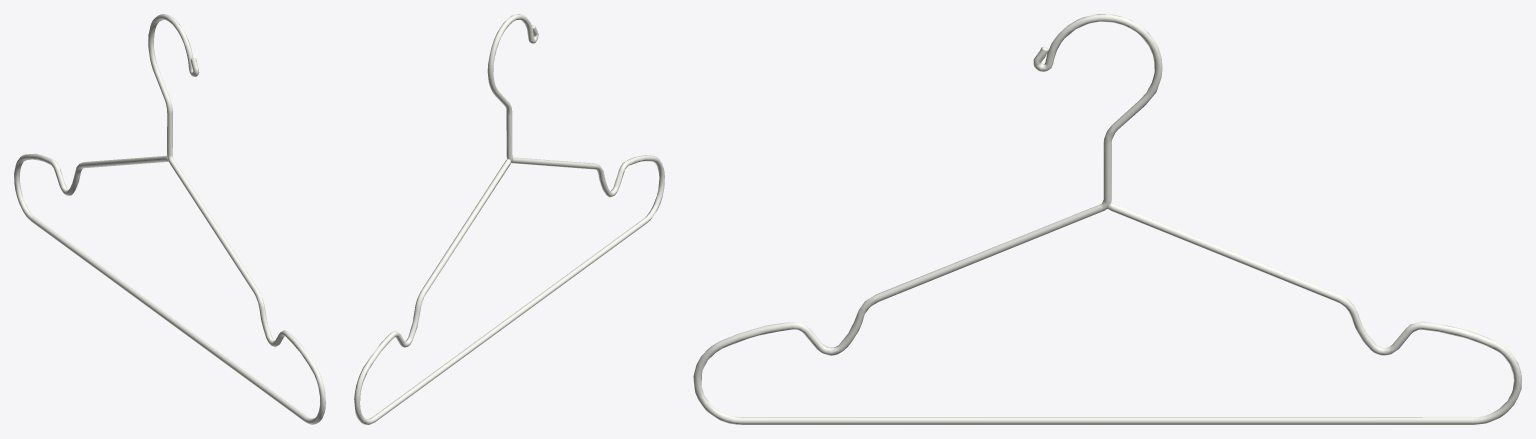
The model's file is stajlig_wieszak_wew_zew_00291419.glb.
The picture shows the model from 3 angles, left to right: view 1: azimuth 30°, elevation 25°; view 2: azimuth 150°, elevation 25°; view 3: azimuth 270°, elevation 25°; orthographic projection. The views are drawn at different scales.
Parts seen in each view (by area): view 1: stajlig_wieszak_wew_zew_00291419; view 2: stajlig_wieszak_wew_zew_00291419; view 3: stajlig_wieszak_wew_zew_00291419.
Boxes of the visible parts, box(x1,y1,x2,y2) form: stajlig_wieszak_wew_zew_00291419: box(14, 14, 325, 424); stajlig_wieszak_wew_zew_00291419: box(354, 14, 664, 424); stajlig_wieszak_wew_zew_00291419: box(693, 14, 1521, 424).
Size of the model in its own units: 0.00419 by 0.2239 by 0.4098.
1 material, 1 textured.
